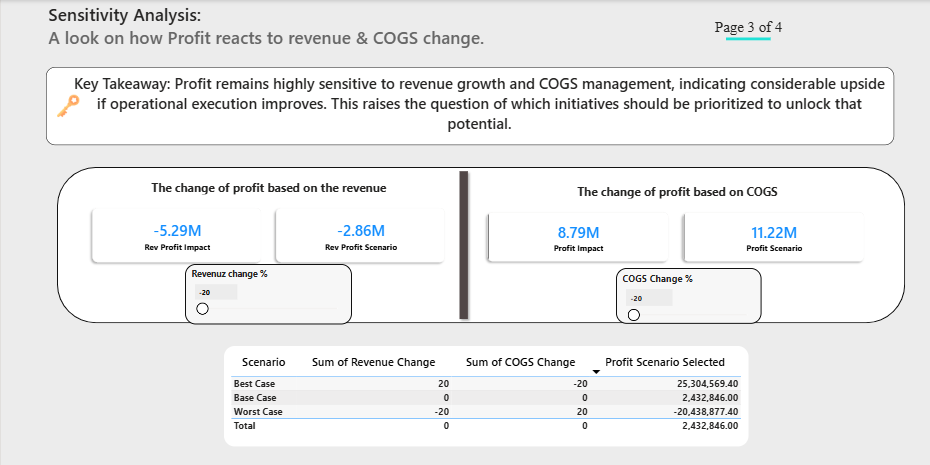

The dashboard page shown, as its layout file describes it:
{"tool":"powerbi","page":{"name":"Page 3","canvas":[2000,1000],"ordinal":2},"visuals":[{"type":"tableEx","fields":{"Values":["Scenario Table.Scenario","Sum(Scenario Table.Revenue Change)","Sum(Scenario Table.COGS Change)","Scenario Table.Profit Scenario Selected"]},"box":[480,744,1128,216],"z":0},{"type":"textbox","box":[96,0,1224,120],"z":1000},{"type":"textbox","box":[1224,0,768,120],"z":2000},{"type":"shape","box":[1560,24,96,120],"z":3000},{"type":"cardVisual","title":"The change of profit based on the revenue","fields":{"Data":["Revenue Change %.Rev Profit Impact","Revenue Change %.Rev Profit Scenario"]},"box":[168,384,816,208],"z":3000,"group":"g1"},{"type":"slicer","title":"Revenuz change %","fields":{"Values":["Revenue Change %.Revenue Change %"]},"box":[396.5,566,359,130],"z":3500,"group":"g1"},{"type":"textbox","box":[96,144,1824,168],"z":4000},{"type":"cardVisual","title":"The change of profit based on COGS","fields":{"Data":["COGS Change %.Profit Impact","COGS Change %.Profit Scenario"]},"box":[1008,384,888,216],"z":4000,"group":"g2"},{"type":"slicer","title":"COGS Change  %","fields":{"Values":["COGS Change %.COGS Change %"]},"box":[1321.4,576,313.4,120],"z":4500,"group":"g2"},{"type":"image","box":[120,168,48,120],"z":5000},{"type":"shape","box":[120,360,1824,336],"z":6000},{"type":"group","id":"g1","title":"Group 2","box":[168,384,816,312],"z":7000},{"type":"group","id":"g2","title":"Group 1","box":[1008,384,888,288],"z":8000},{"type":"shape","box":[816,360,360,336],"z":9000}]}

Visuals, with their boxes in screenshot pixels (x1, y1, x2, y2), scaled from the page's 2000x1000 canvas onto the 930x465 screenshot:
tableEx - Scenario Table.Scenario x Sum(Scenario Table.Revenue Change): [left=223, top=346, right=748, bottom=446]
textbox: [left=45, top=0, right=614, bottom=56]
textbox: [left=569, top=0, right=926, bottom=56]
shape: [left=725, top=11, right=770, bottom=67]
"The change of profit based on the revenue" cardVisual: [left=78, top=179, right=458, bottom=275]
"Revenuz change %" slicer: [left=184, top=263, right=351, bottom=324]
textbox: [left=45, top=67, right=893, bottom=145]
"The change of profit based on COGS" cardVisual: [left=469, top=179, right=882, bottom=279]
"COGS Change  %" slicer: [left=614, top=268, right=760, bottom=324]
image: [left=56, top=78, right=78, bottom=134]
shape: [left=56, top=167, right=904, bottom=324]
"Group 2" group: [left=78, top=179, right=458, bottom=324]
"Group 1" group: [left=469, top=179, right=882, bottom=312]
shape: [left=379, top=167, right=547, bottom=324]
